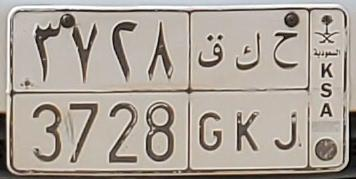2: (108, 20, 141, 164)
3: (31, 21, 63, 163)
7: (70, 22, 100, 164)
8: (145, 21, 177, 162)
G: (197, 32, 226, 151)
J: (271, 30, 301, 151)
K: (233, 30, 264, 152)
